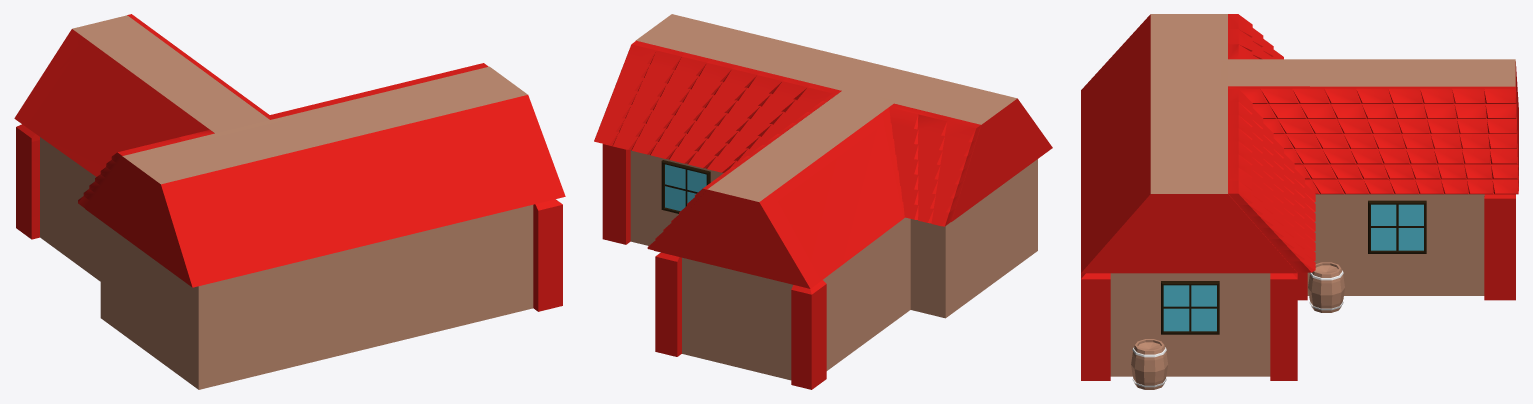
File: Winery.fbx
3 renders of one model, left to right at view 1: azimuth 30°, elevation 25°; view 2: azimuth 150°, elevation 25°; view 3: azimuth 270°, elevation 25°, orthographic. The views are drawn at different scales.
Visible parts, largest first — view 1: Winery; view 2: Winery; view 3: Winery.
Part boxes in pixels (<box>): Winery: <box>14,14,565,389</box>; Winery: <box>594,14,1052,389</box>; Winery: <box>1081,14,1518,389</box>.
Size of the model in its own units: 428 by 190 by 403.
